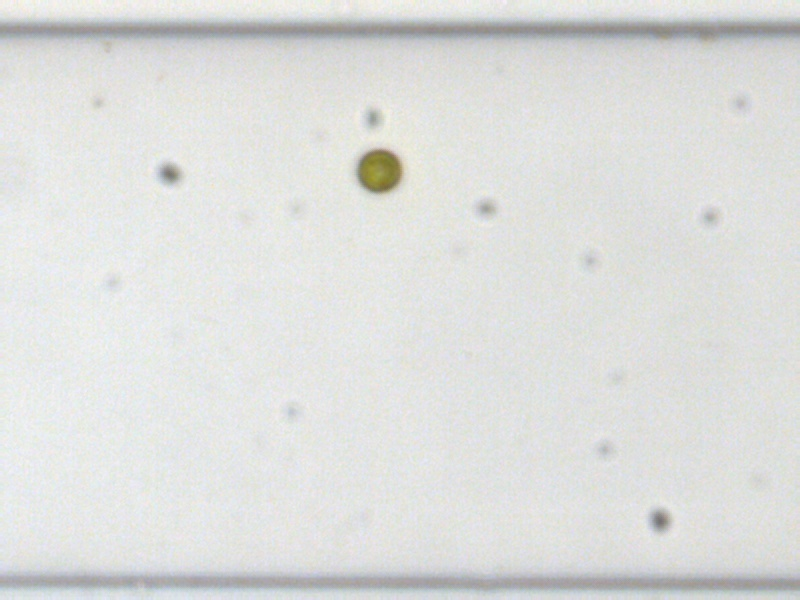Platymonas: (355, 146, 405, 192)
